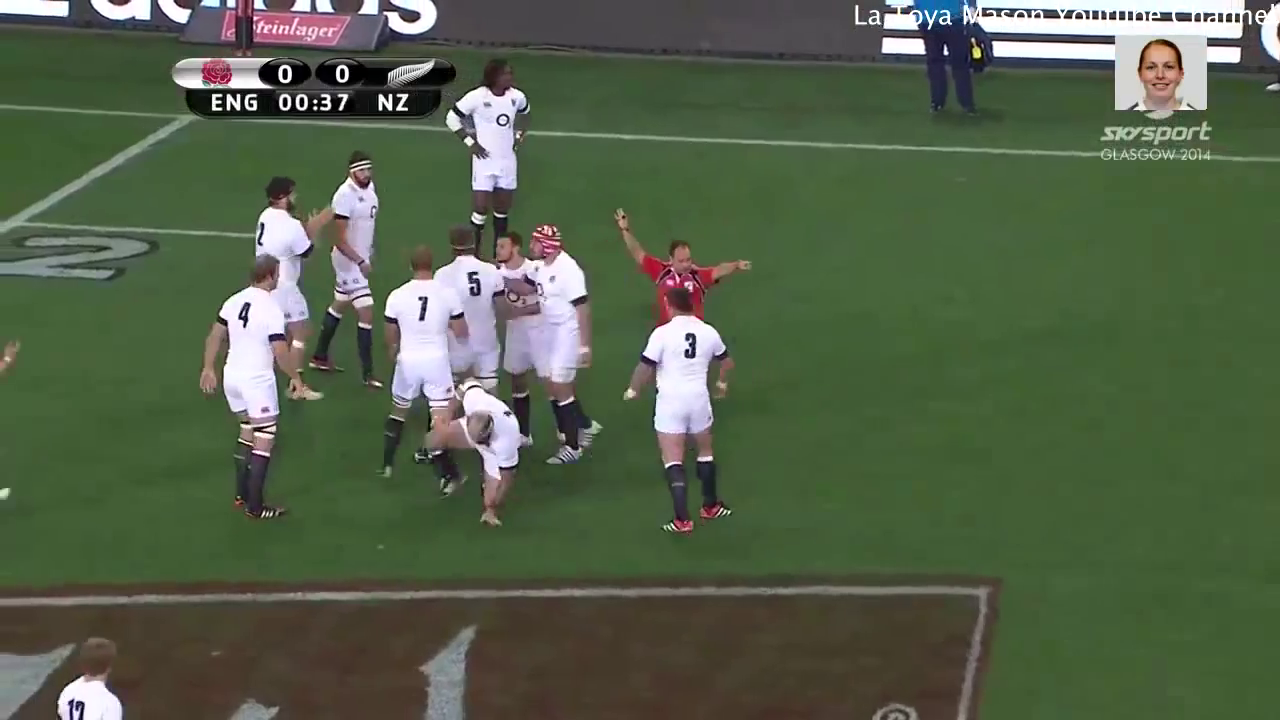player: (617, 300, 748, 540), (189, 261, 296, 528), (525, 221, 608, 465), (375, 249, 460, 487), (441, 58, 540, 247), (311, 152, 382, 408), (425, 376, 520, 531), (613, 205, 749, 311), (433, 234, 505, 383), (489, 225, 541, 425), (241, 172, 311, 304)
